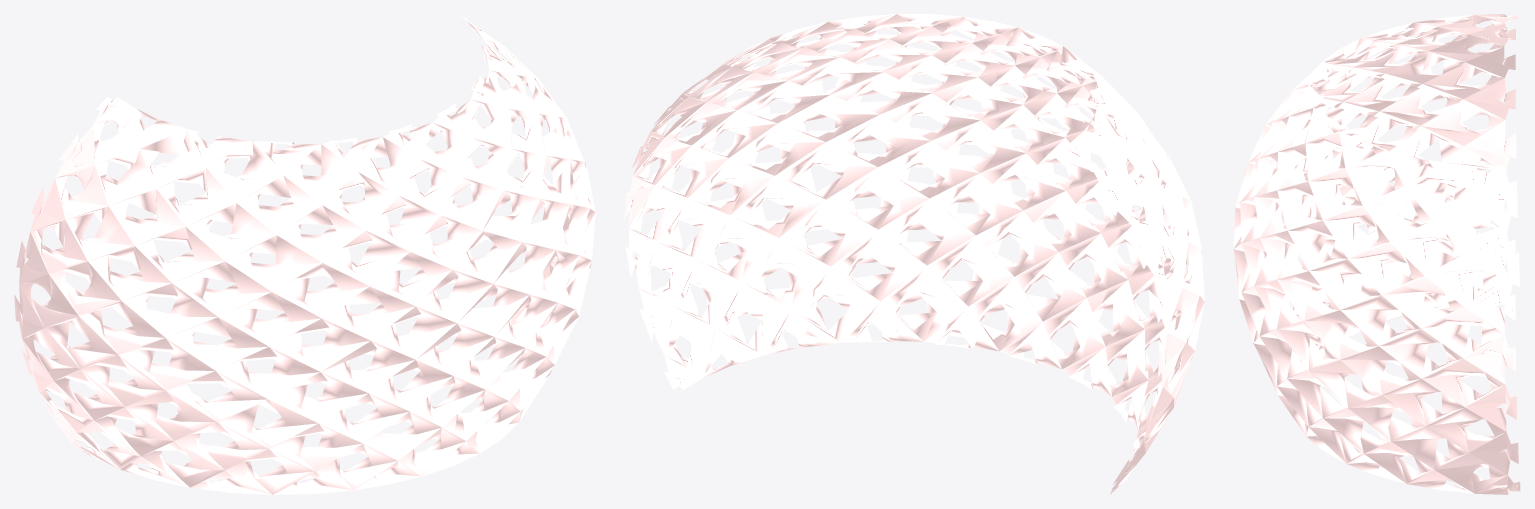
3 views of the same model, side by side, from view 1: azimuth 30°, elevation 25°; view 2: azimuth 150°, elevation 25°; view 3: azimuth 270°, elevation 25° (orthographic). The views are drawn at different scales.
Parts seen in each view (by area): view 1: Layer 01; view 2: Layer 01; view 3: Layer 01.
Boxes of the visible parts, x1,y1,x2,y2 form: Layer 01: (14, 15, 595, 494); Layer 01: (624, 14, 1204, 494); Layer 01: (1233, 14, 1520, 494).
Size of the model in its own units: 2.89 by 1.74 by 1.46.
